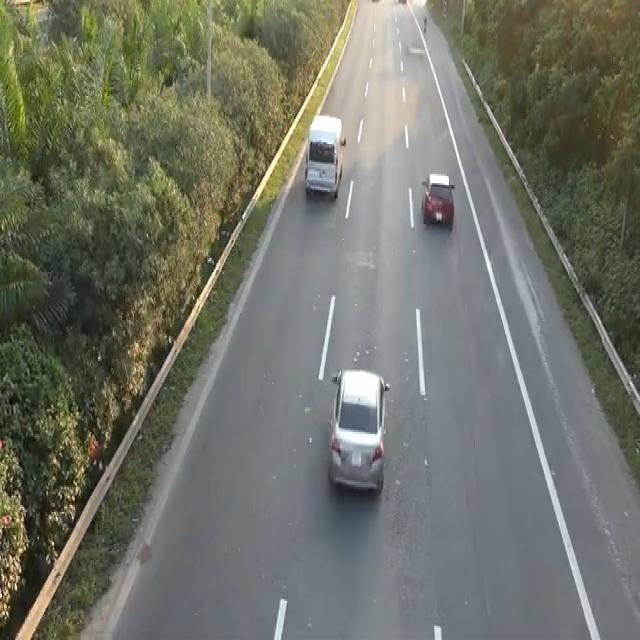bus: (325, 363, 391, 496), (419, 169, 455, 229)
jeep: (303, 110, 346, 201)
